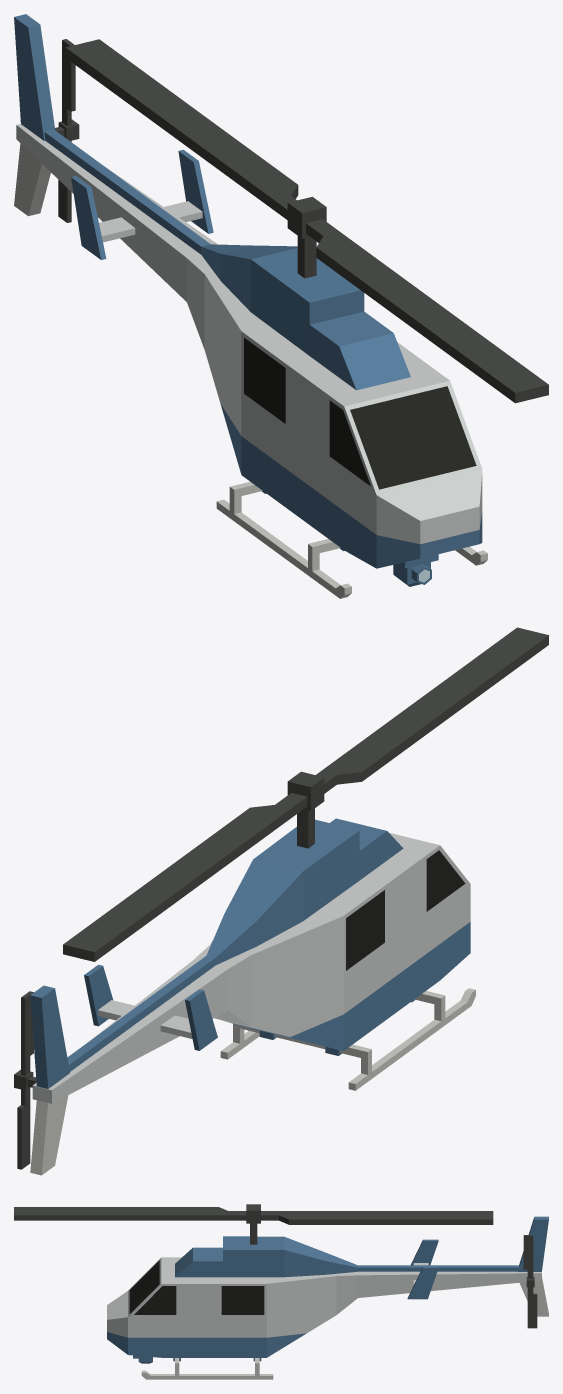
The model's file is Veh_News_Helicopter.obj.
3 renders of one model, top to bottom at view 1: azimuth 30°, elevation 25°; view 2: azimuth 150°, elevation 25°; view 3: azimuth 270°, elevation 25°, orthographic. The views are drawn at different scales.
Bounding box in the file's own units: 1.02 × 2.05 × 6.44.
